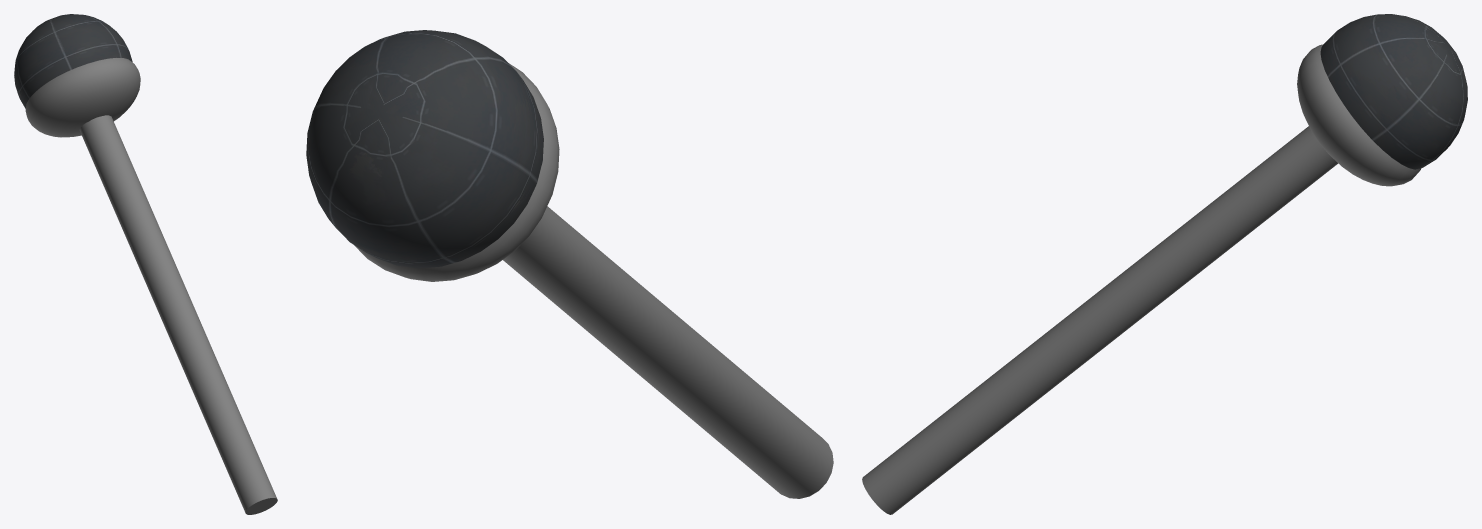
The model's file is Agent_Handheld_Magic.fbx.
3 views of the same model, side by side, from view 1: azimuth 30°, elevation 25°; view 2: azimuth 150°, elevation 25°; view 3: azimuth 270°, elevation 25° (orthographic). The views are drawn at different scales.
Visible parts, largest first — view 1: Cylinder, Sphere_1, Sphere; view 2: Sphere, Cylinder, Sphere_1; view 3: Cylinder, Sphere, Sphere_1.
Part boxes in pixels (x1,y1,x2,y2): Cylinder: (79, 115, 277, 514); Sphere_1: (25, 58, 140, 137); Sphere: (14, 14, 132, 108); Sphere: (306, 30, 543, 268); Cylinder: (503, 206, 833, 498); Sphere_1: (354, 63, 559, 281); Cylinder: (862, 126, 1337, 514); Sphere: (1320, 14, 1467, 169); Sphere_1: (1297, 44, 1421, 186).
Bounding box in the file's own units: 0.17 × 0.5586 × 0.625.
2 materials, 2 textured.
